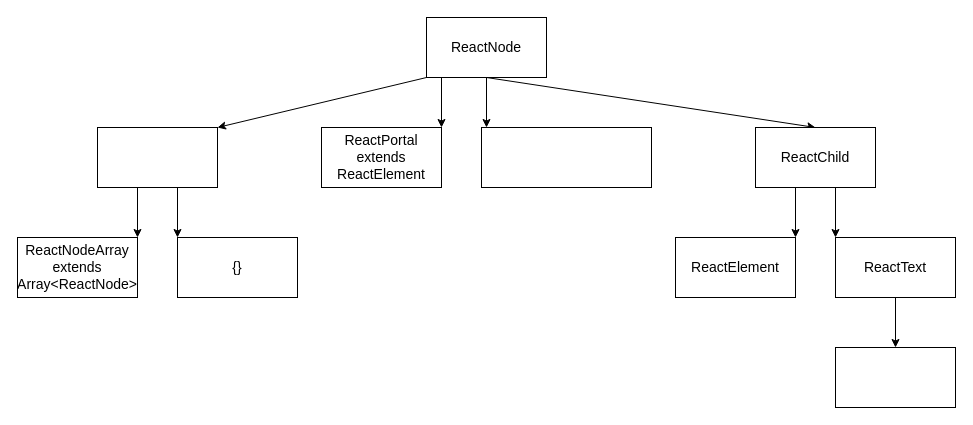
This 973x425 diagram has some shape labels left out. Here are the shapes that lost their labels. From the top down, the box of each, then its label:
(96, 126, 218, 188): ReactFragment
(480, 126, 652, 188): boolean/null/undefined
(834, 346, 956, 408): string/number
